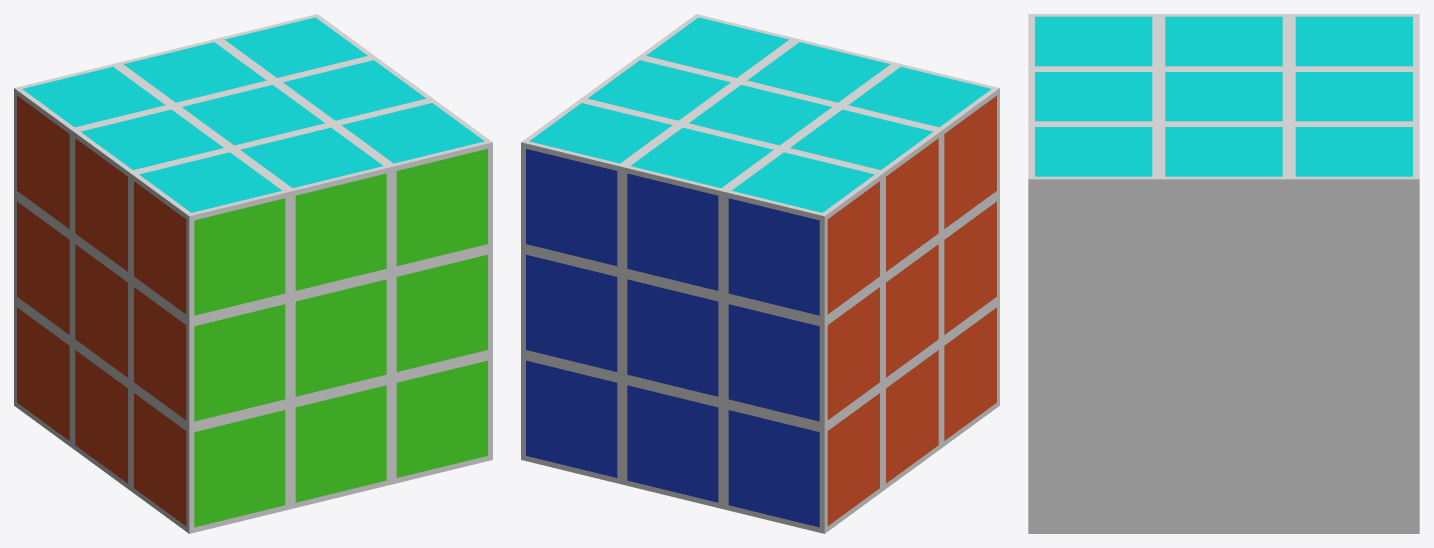
Rendered from RubikCube.fbx.
3 renders of one model, left to right at view 1: azimuth 30°, elevation 25°; view 2: azimuth 150°, elevation 25°; view 3: azimuth 270°, elevation 25°, orthographic. The views are drawn at different scales.
Visible parts, largest first — view 1: 立方体.018, 立方体, 立方体.009, 立方体.020, 立方体.019, 立方体.021, 立方体.024, 立方体.002, 立方体.011, 立方体.001, 立方体.010, 立方体.003 (+7 smaller); view 2: 立方体.024, 立方体.006, 立方体.015, 立方体.026, 立方体.025, 立方体.018, 立方体.021, 立方体.008, 立方体.017, 立方体.007, 立方体.016, 立方体 (+7 smaller); view 3: 立方体.023, 立方体.020, 立方体.026, 立方体.005, 立方体.014, 立方体.002, 立方体.008, 立方体.011, 立方体.017, 立方体.022, 立方体.019, 立方体.025 (+3 smaller).
Part boxes in pixels (box(x1,y1,x2,y2)): 立方体.018: box(131, 149, 290, 321); 立方体: box(131, 385, 290, 533); 立方体.009: box(131, 280, 290, 427); 立方体.020: box(333, 99, 492, 272); 立方体.019: box(232, 124, 391, 297); 立方体.021: box(72, 106, 231, 278); 立方体.024: box(14, 63, 173, 236); 立方体.002: box(391, 354, 492, 484); 立方体.011: box(391, 248, 492, 378); 立方体.001: box(290, 379, 391, 508); 立方体.010: box(290, 273, 391, 403); 立方体.003: box(72, 343, 130, 490); 立方体.024: box(723, 149, 882, 321); 立方体.006: box(723, 385, 882, 533); 立方体.015: box(723, 280, 882, 427); 立方体.026: box(521, 99, 680, 272); 立方体.025: box(622, 124, 781, 297); 立方体.018: box(840, 63, 999, 236); 立方体.021: box(782, 106, 941, 278); 立方体.008: box(521, 354, 622, 484); 立方体.017: box(521, 248, 622, 378); 立方体.007: box(622, 379, 723, 508); 立方体.016: box(622, 273, 723, 403); 立方体: box(941, 300, 999, 448); 立方体.023: box(1158, 124, 1289, 297); 立方体.020: box(1028, 124, 1158, 297); 立方体.026: box(1289, 124, 1419, 297); 立方体.005: box(1158, 415, 1289, 533); 立方体.014: box(1158, 297, 1289, 415); 立方体.002: box(1028, 415, 1158, 533); 立方体.008: box(1289, 415, 1419, 533); 立方体.011: box(1028, 297, 1158, 415); 立方体.017: box(1289, 297, 1419, 415); 立方体.022: box(1158, 69, 1289, 124); 立方体.019: box(1028, 69, 1158, 124); 立方体.025: box(1289, 69, 1419, 124).
Bounding box in the file's own units: 300 × 300 × 300.
